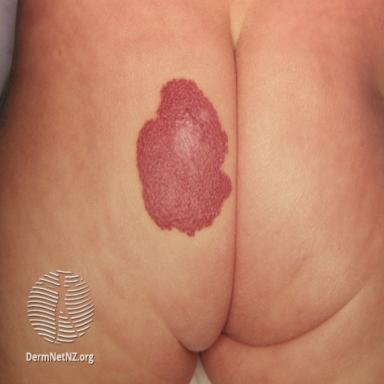Hemangiome: (137, 79, 232, 237)
